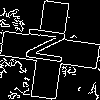N: (25, 25, 76, 67)
